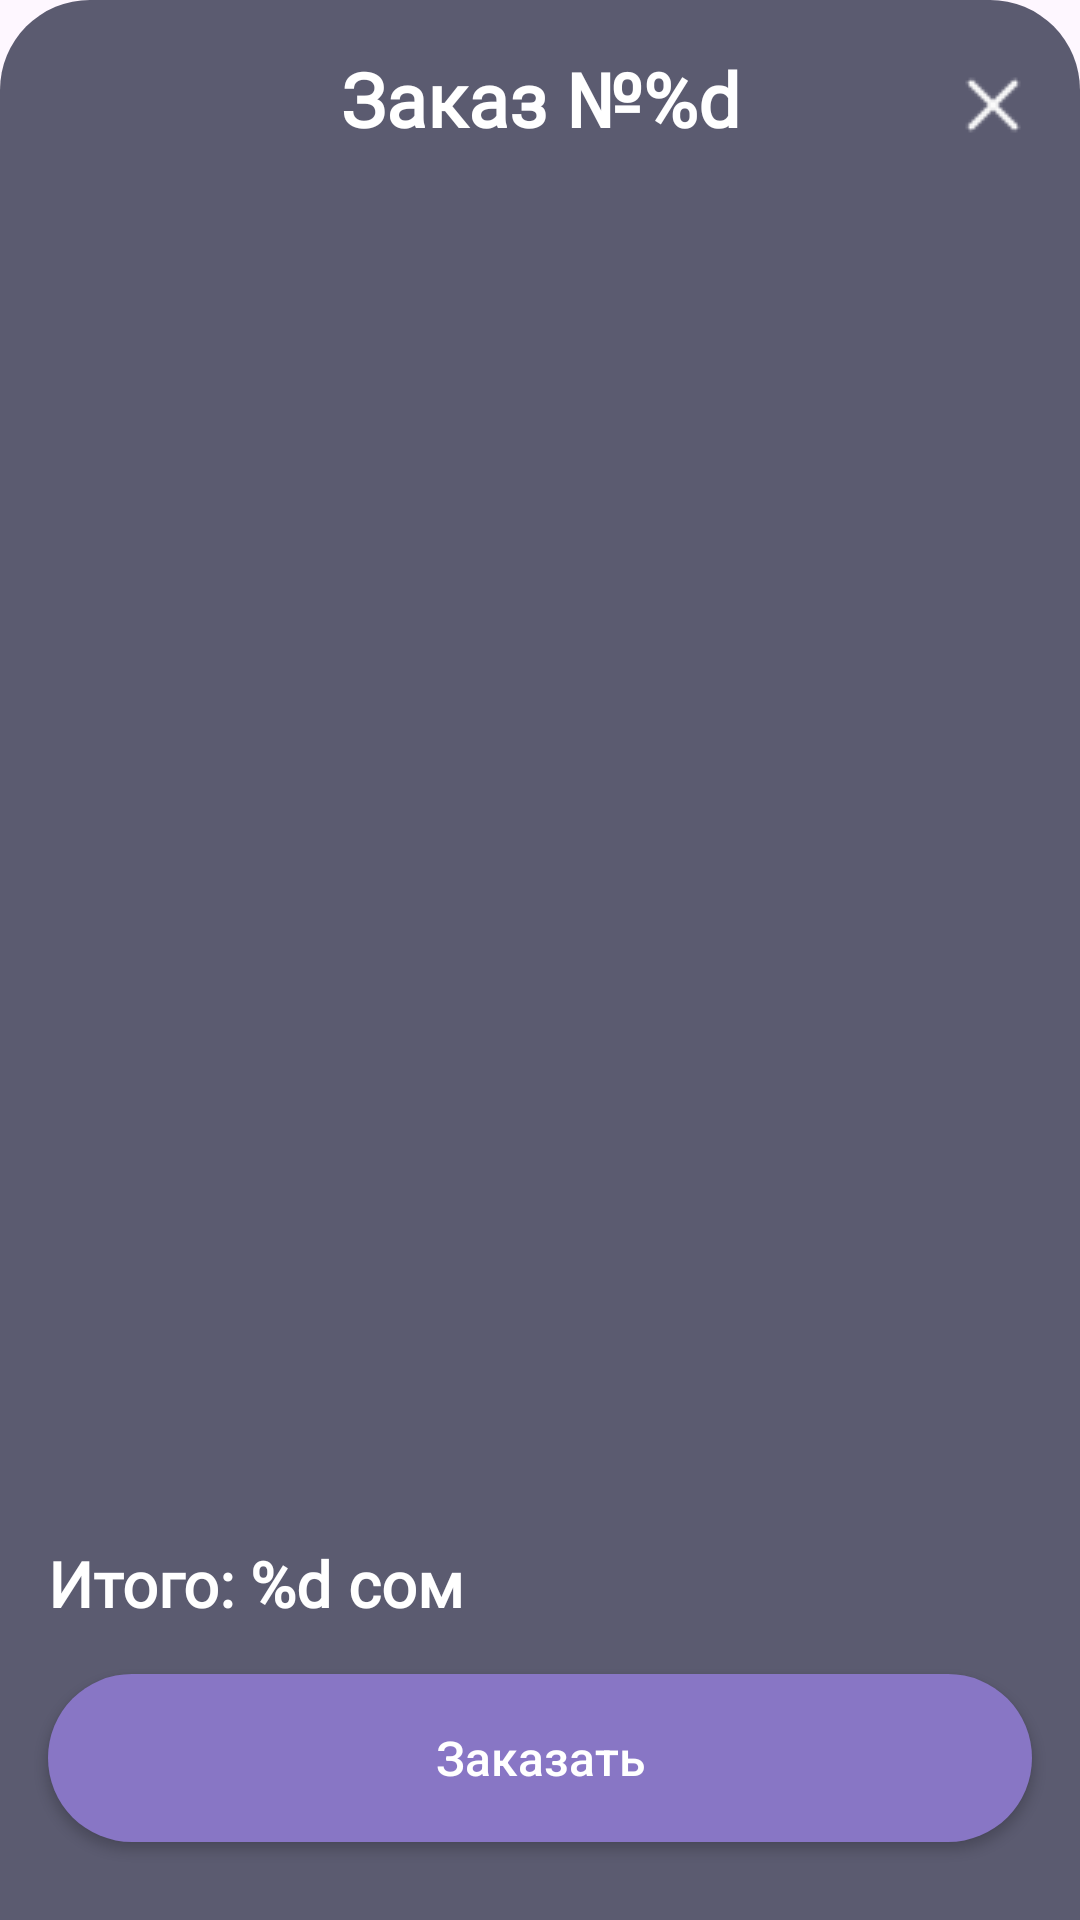

Screen size 1080x1920. Icon name, then its box in pixels as (x1, y1, x2, y2):
cancel: (966, 78, 1020, 132)
